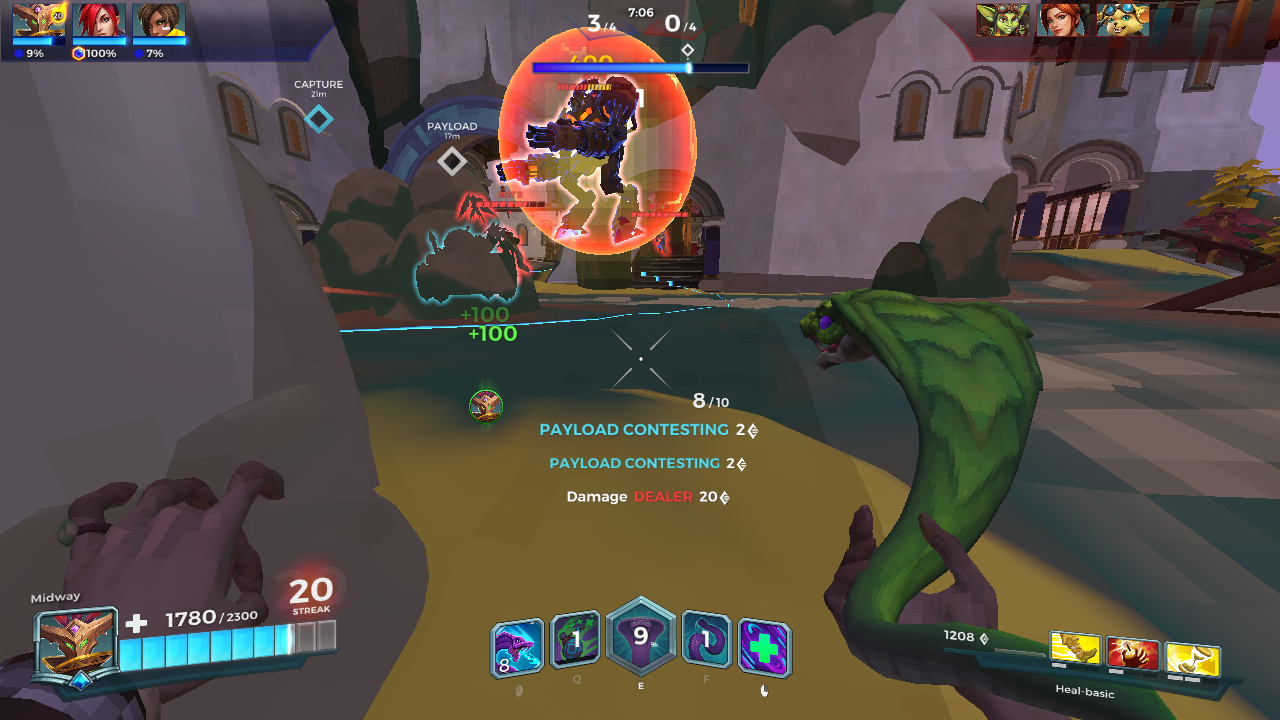model: (559, 52, 653, 248), (494, 210, 527, 268), (652, 224, 674, 256)
